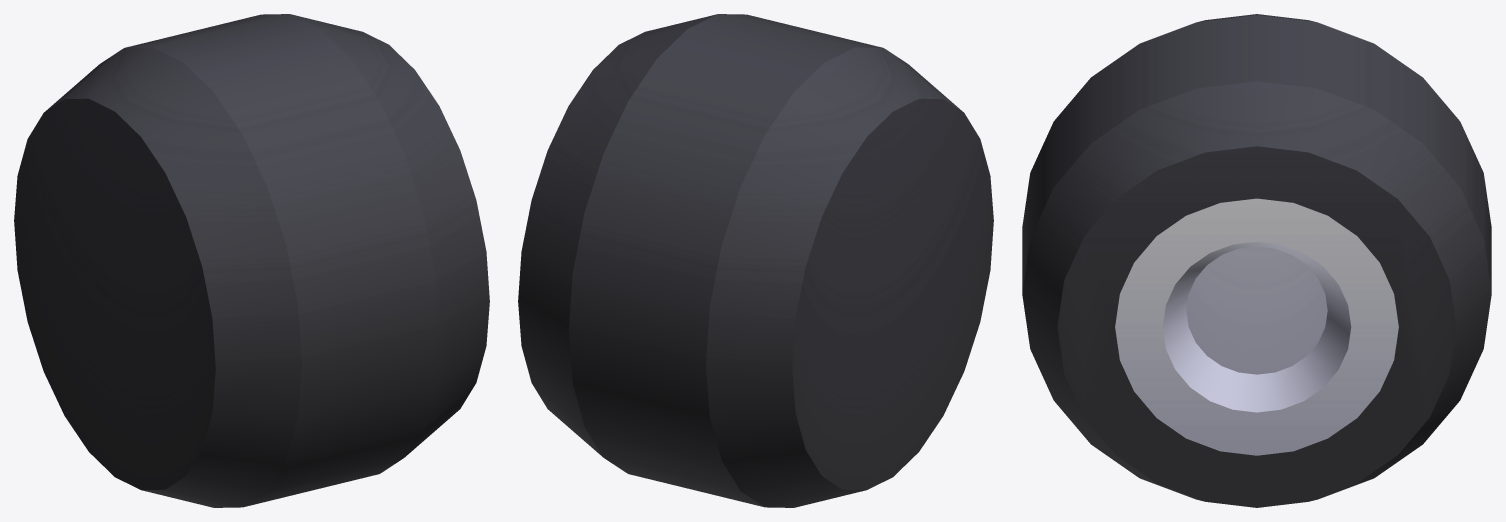
3 views of the same model, side by side, from view 1: azimuth 30°, elevation 25°; view 2: azimuth 150°, elevation 25°; view 3: azimuth 270°, elevation 25° (orthographic).
Visible parts, largest first — view 1: wheel-default; view 2: wheel-default; view 3: wheel-default.
Part boxes in pixels (<box>): wheel-default: <box>14,14,489,507</box>; wheel-default: <box>518,14,993,507</box>; wheel-default: <box>1022,14,1491,507</box>.
Bounding box in the file's own units: 0.4 × 0.6 × 0.6.
1 material, 1 textured.
